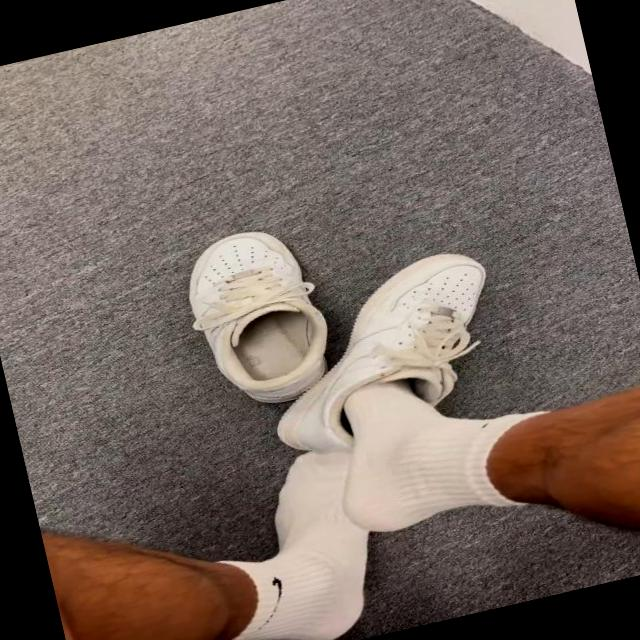nike_original_airforce: (246, 242, 532, 476), (165, 212, 348, 419)
